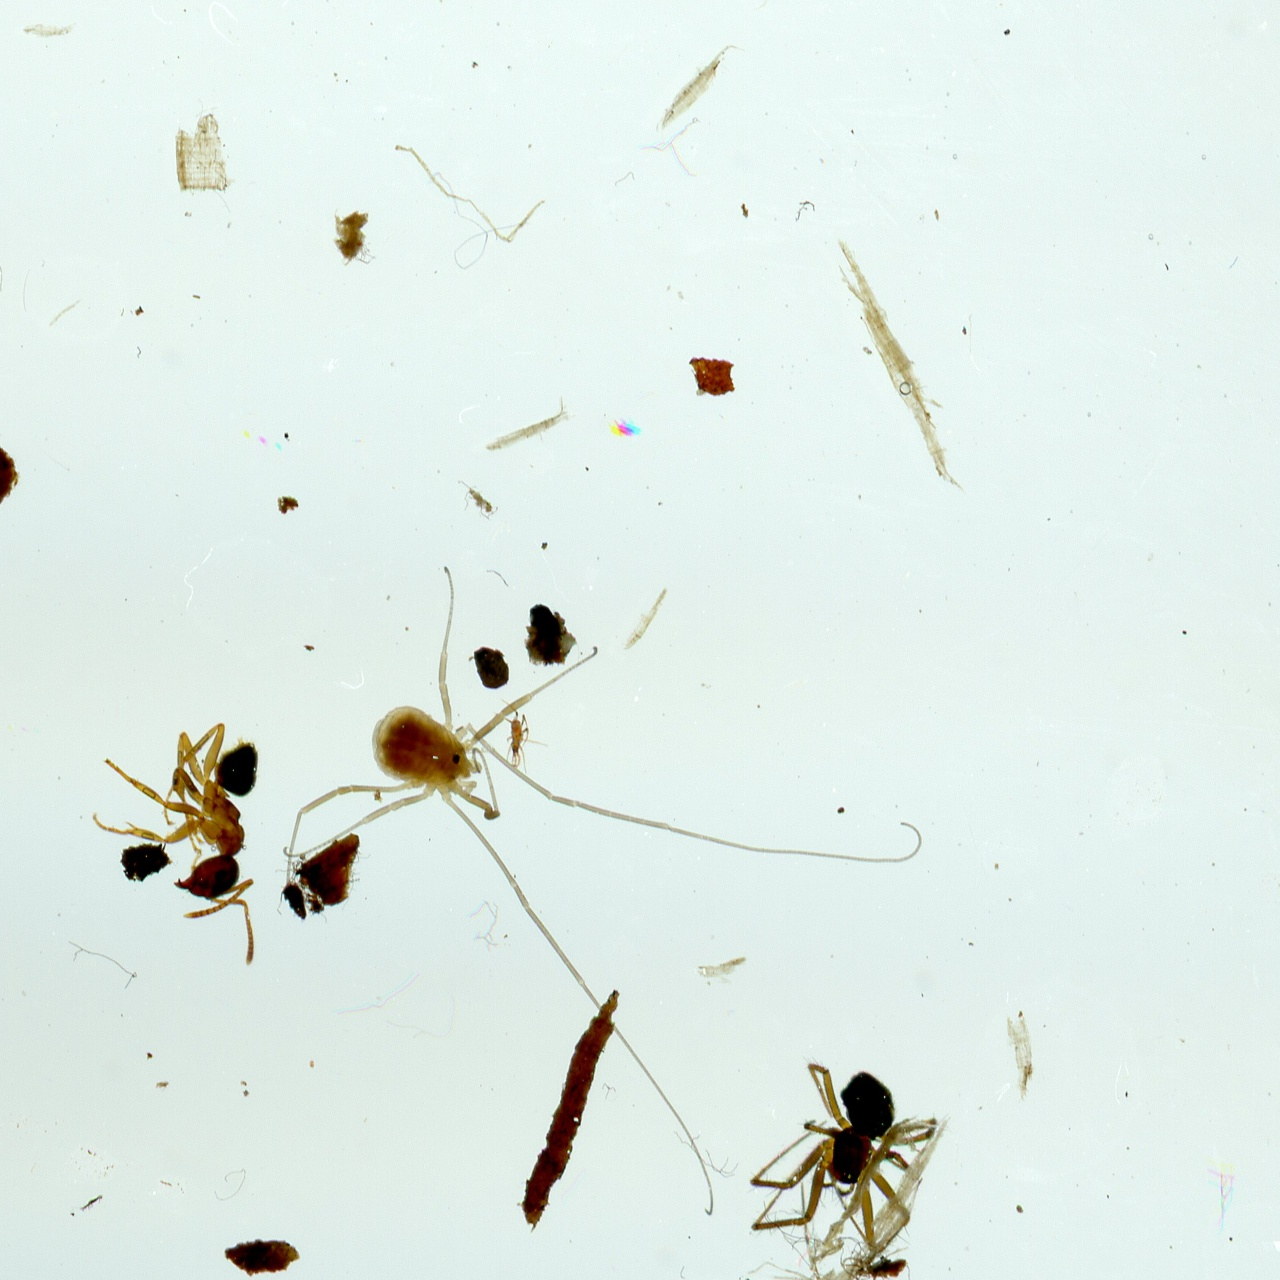arthropod: (213, 533, 955, 1228), (731, 1041, 952, 1280), (89, 719, 264, 969), (493, 696, 552, 776)
